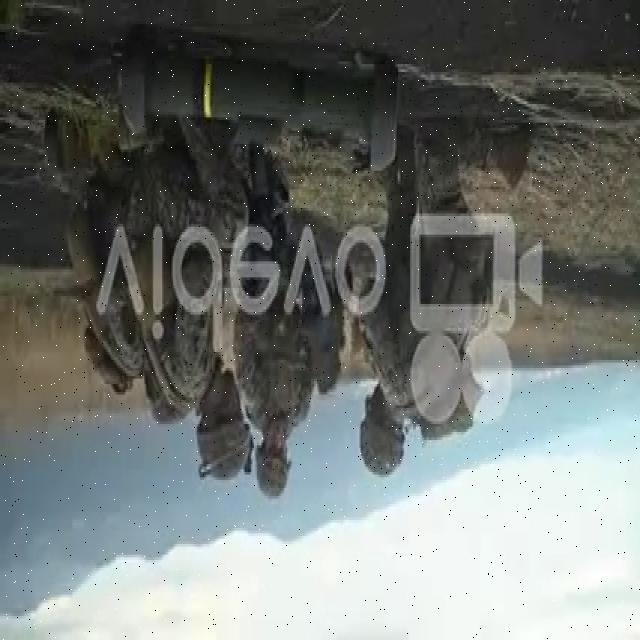bazooka: (117, 13, 403, 180)
